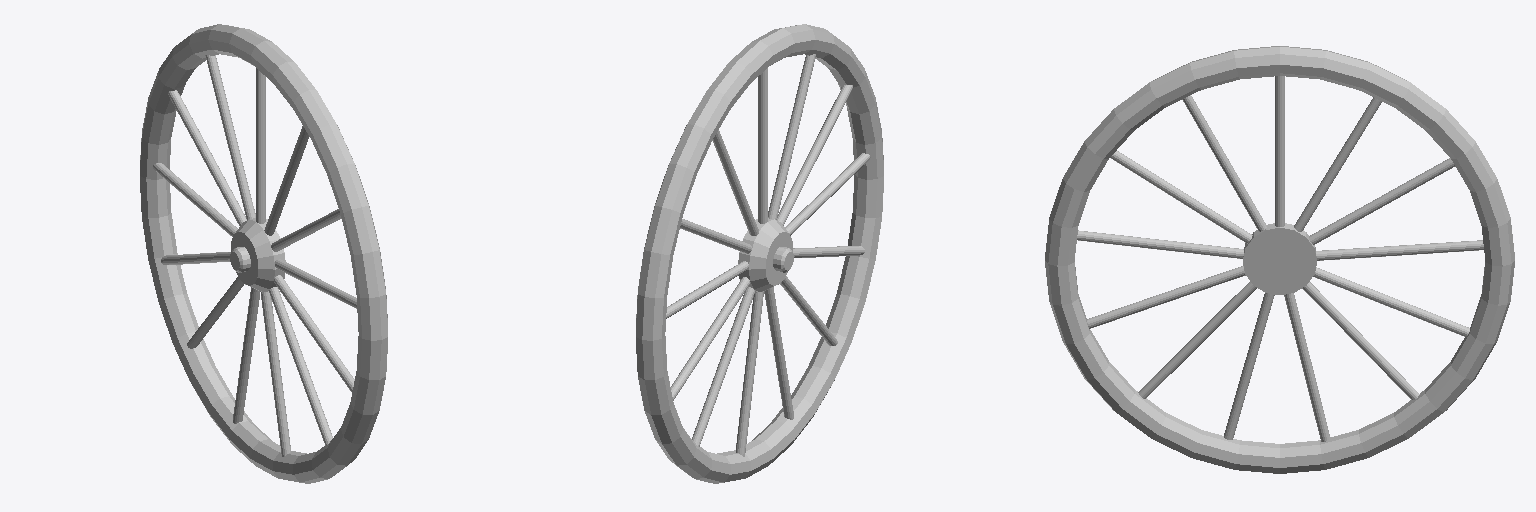
The model's file is Wheel.obj.
3 views of the same model, side by side, from view 1: azimuth 30°, elevation 25°; view 2: azimuth 150°, elevation 25°; view 3: azimuth 270°, elevation 25° (orthographic).
Parts seen in each view (by area): view 1: Wheel; view 2: Wheel; view 3: Wheel.
Part boxes in pixels (bbox=[...]): Wheel: bbox=[140, 24, 387, 483]; Wheel: bbox=[636, 24, 883, 483]; Wheel: bbox=[1045, 46, 1514, 473].
Size of the model in its own units: 0.1305 by 1.26 by 1.26.